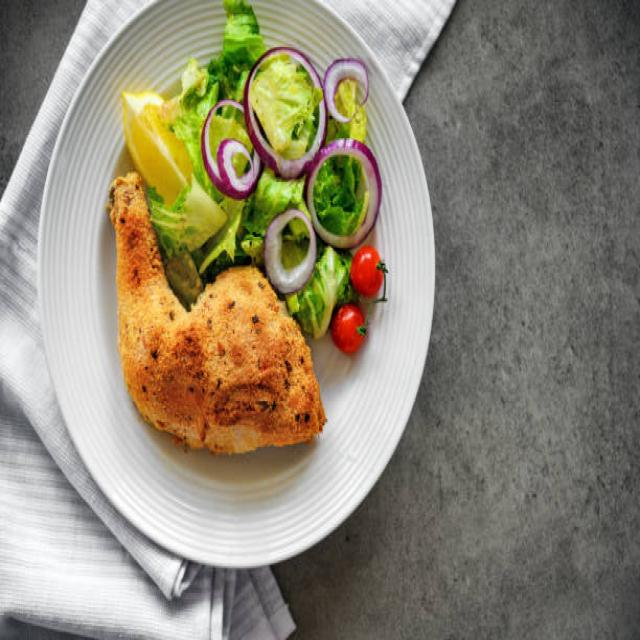Frango: (104, 168, 330, 453)
